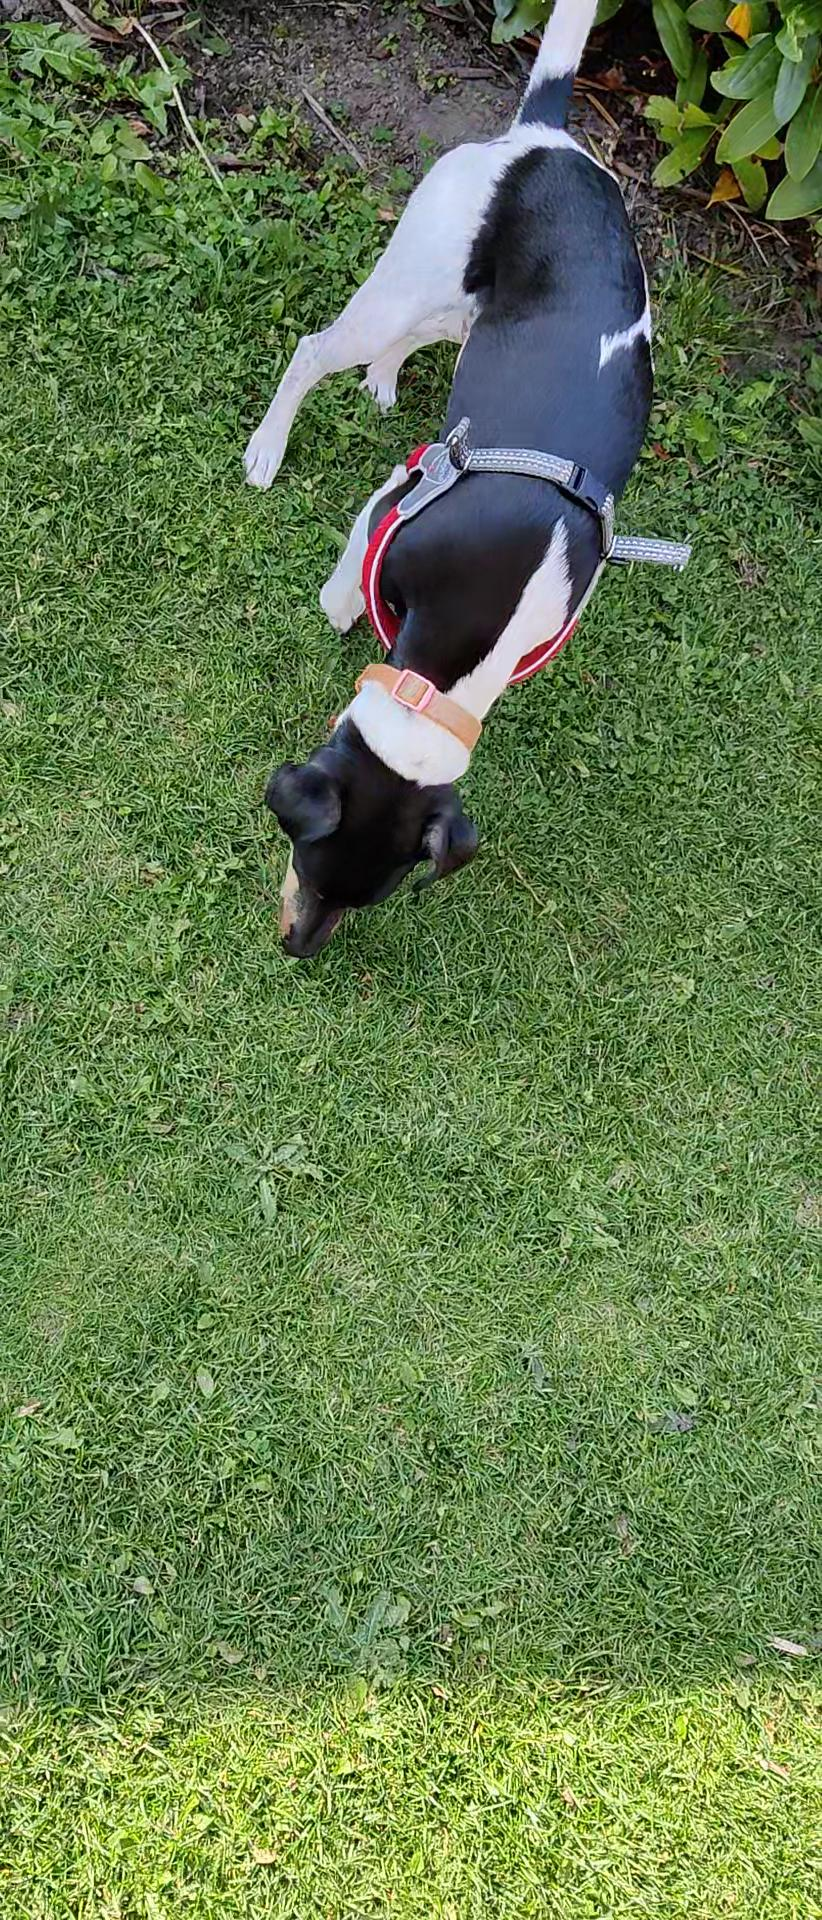Dog: (218, 0, 666, 975)
